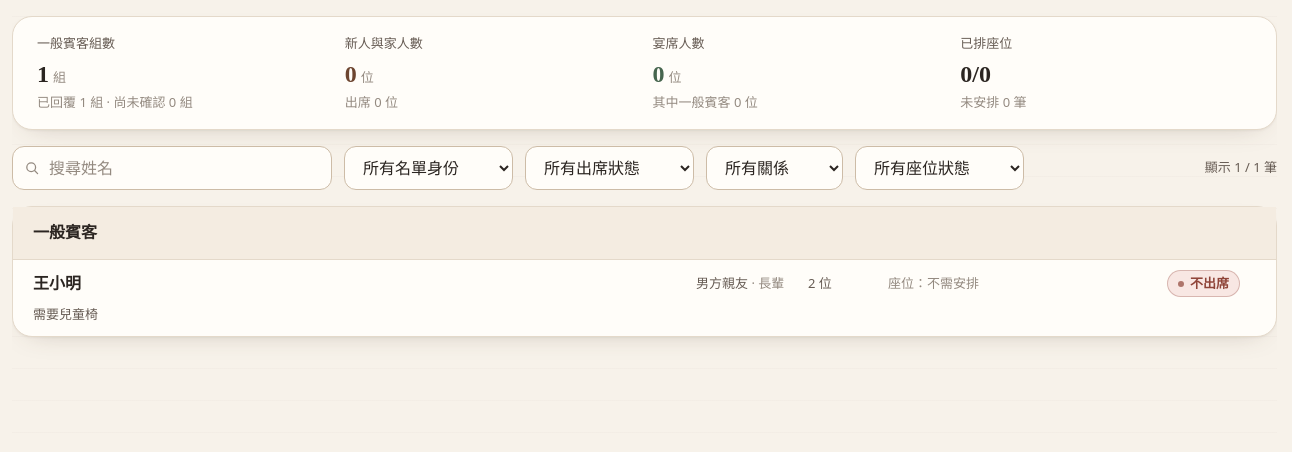
Test: GuestList › marks declined guests as not needing seats and excludes them from unassigned seating
Expected: the text "座位：不需安排" is shown, [888,274,979,292]
Expected: the text "0/0" is shown, [960,58,991,90]
Select "未安排" in the dropdown named "座位狀態篩選". click: {"x": 940, "y": 168}
box: [855,146,1024,190]
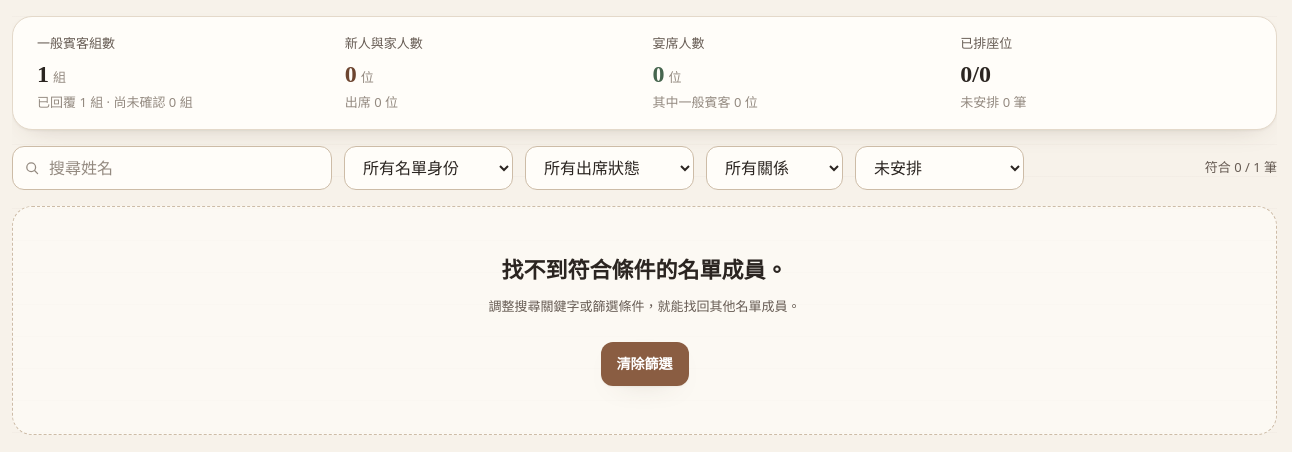
Expected: the text "找不到符合條件的名單成員。" is shown, [502,258,788,283]
